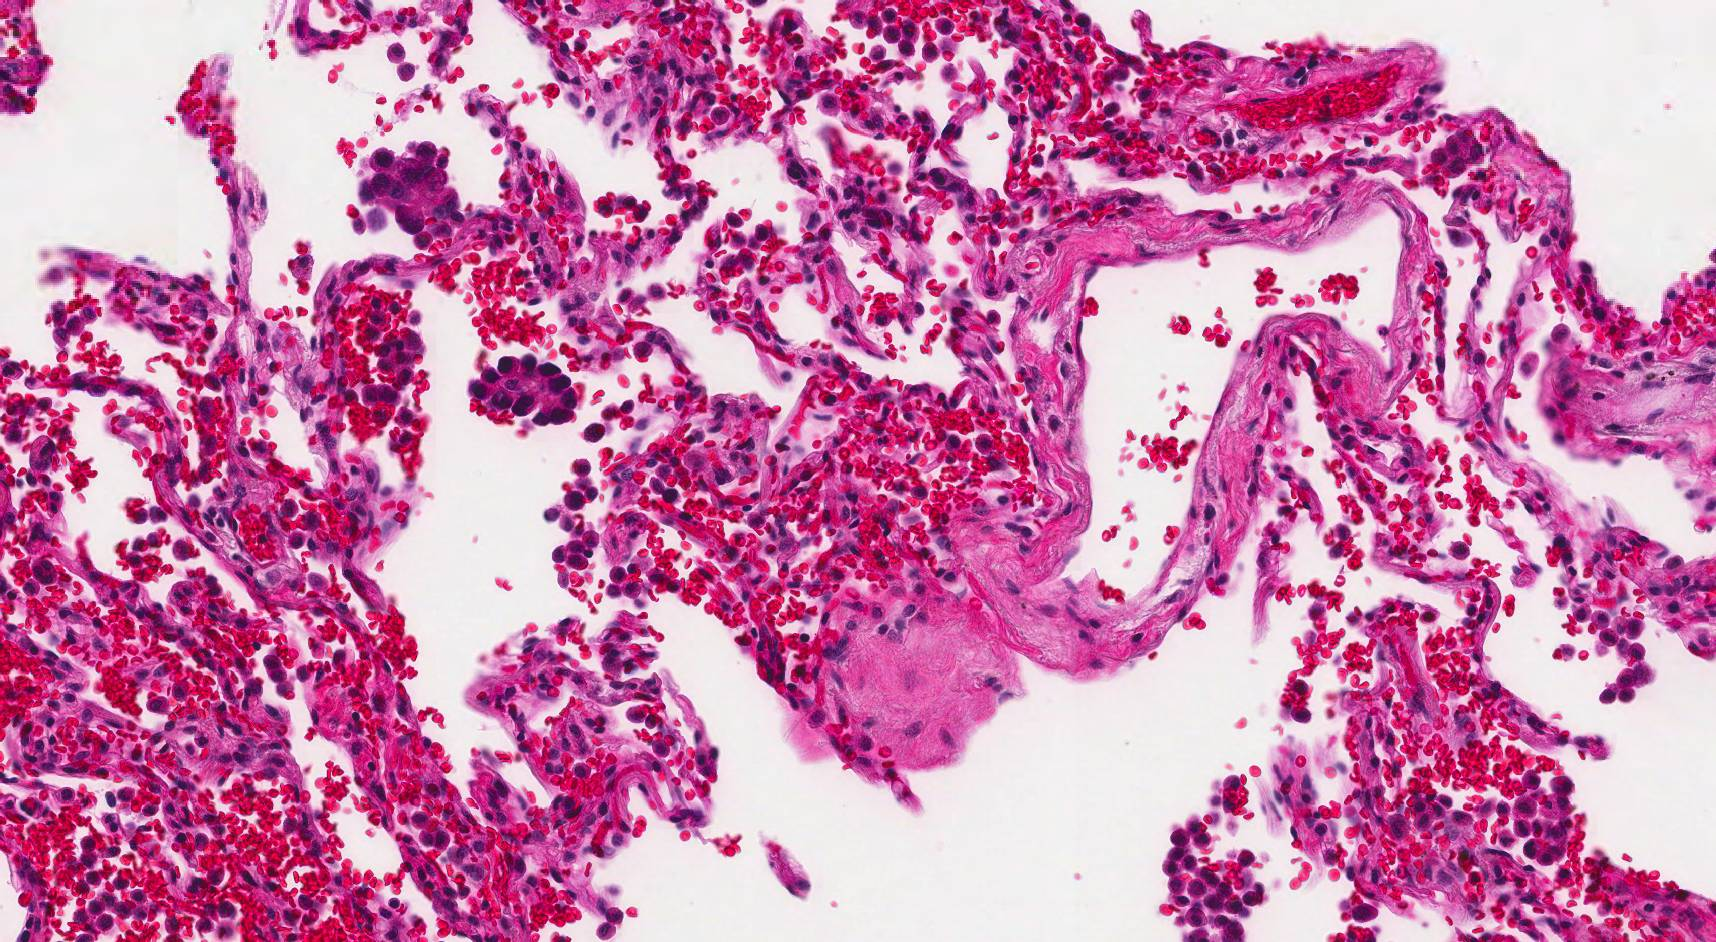stas: (361, 141, 466, 239), (468, 352, 580, 427)
